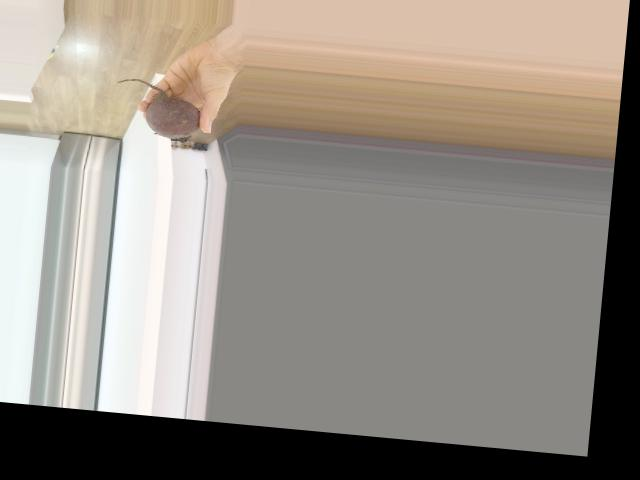beet: (111, 77, 203, 143)
